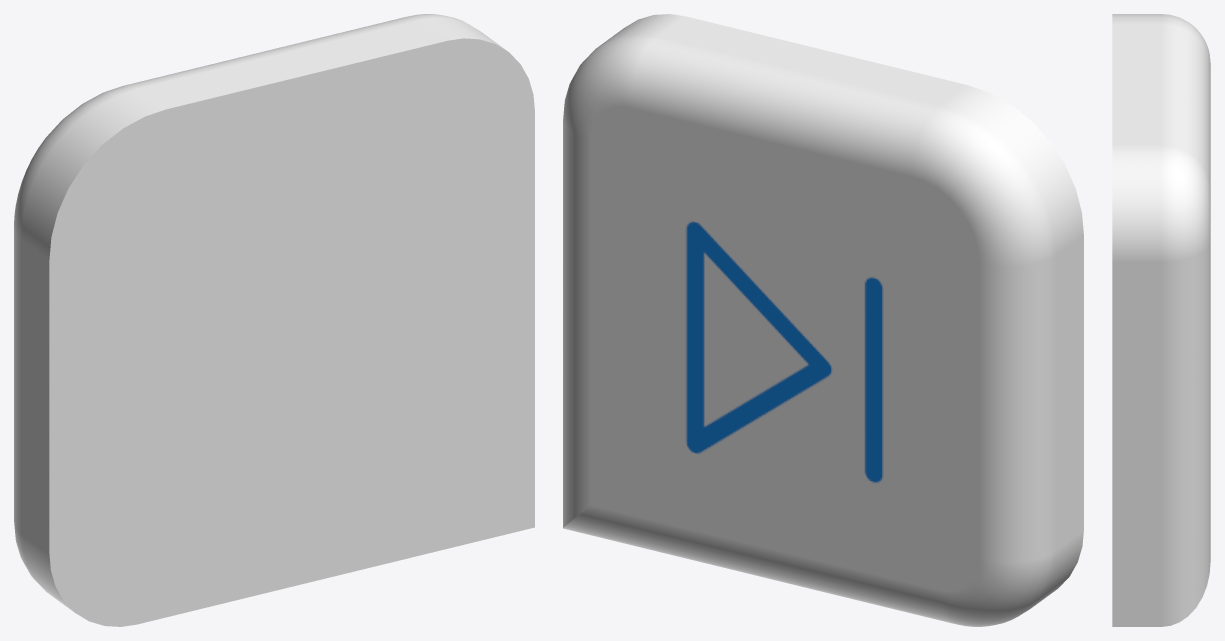
The model's file is right.fbx.
The picture shows the model from 3 angles, left to right: view 1: azimuth 30°, elevation 25°; view 2: azimuth 150°, elevation 25°; view 3: azimuth 270°, elevation 25°; orthographic projection. The views are drawn at different scales.
Parts seen in each view (by area): view 1: Right; view 2: Right; view 3: Right.
Boxes of the visible parts, x1,y1,x2,y2 form: Right: [14, 14, 534, 626]; Right: [563, 14, 1083, 626]; Right: [1112, 14, 1210, 626].
Size of the model in its own units: 500 by 500 by 100.
